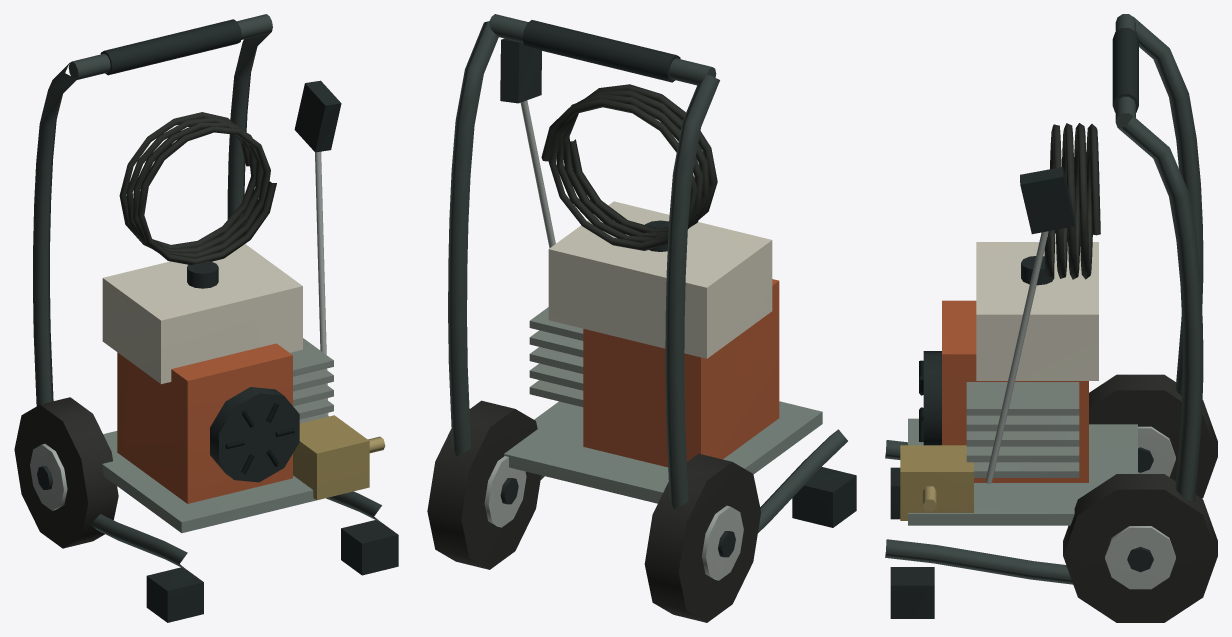
File: pressure-washer-course.glb
3 views of the same model, side by side, from view 1: azimuth 30°, elevation 25°; view 2: azimuth 150°, elevation 25°; view 3: azimuth 270°, elevation 25° (orthographic). The views are drawn at different scales.
Visible parts, largest first — view 1: Fuel tank with rolled corners.001, Painted engine housing.001, All-terrain washer wheel rubber tread.002, Coiled high-pressure hose.001, Continuous washer roll cage.002, Engine mount plate.001, Motor recoil housing.001, Brass pressure pump.001, Continuous washer roll cage.003, Washer handle grip.001, Washer vibration foot.002, Washer vibration foot.003 (+9 smaller); view 2: Fuel tank with rolled corners.001, Painted engine housing.001, All-terrain washer wheel rubber tread.002, All-terrain washer wheel rubber tread.003, Continuous washer roll cage.002, Engine mount plate.001, Coiled high-pressure hose.001, Continuous washer roll cage.003, Washer handle grip.001, Washer vibration foot.002, Lance trigger grip.001, All-terrain washer wheel recessed hub.004 (+8 smaller); view 3: All-terrain washer wheel rubber tread.003, Fuel tank with rolled corners.001, Continuous washer roll cage.003, Engine mount plate.001, All-terrain washer wheel rubber tread.002, Painted engine housing.001, Coiled high-pressure hose.001, Continuous washer roll cage.002, Brass pressure pump.001, Cast motor cooling fin.009, All-terrain washer wheel recessed hub.007, Lance trigger grip.001 (+13 smaller).
Part boxes in pixels (x1=…): Fuel tank with rolled corners.001: x1=102, y1=244, x2=302, y2=384; Painted engine housing.001: x1=117, y1=343, x2=292, y2=503; All-terrain washer wheel rubber tread.002: x1=14, y1=397, x2=118, y2=548; Coiled high-pressure hose.001: x1=119, y1=112, x2=276, y2=264; Continuous washer roll cage.002: x1=33, y1=63, x2=187, y2=570; Engine mount plate.001: x1=102, y1=431, x2=316, y2=533; Motor recoil housing.001: x1=210, y1=387, x2=299, y2=482; Brass pressure pump.001: x1=293, y1=415, x2=369, y2=500; Continuous washer roll cage.003: x1=227, y1=32, x2=382, y2=523; Washer handle grip.001: x1=100, y1=19, x2=241, y2=75; Washer vibration foot.002: x1=146, y1=567, x2=203, y2=622; Washer vibration foot.003: x1=341, y1=520, x2=398, y2=575; Fuel tank with rolled corners.001: x1=548, y1=201, x2=772, y2=358; Painted engine housing.001: x1=583, y1=279, x2=779, y2=467; All-terrain washer wheel rubber tread.002: x1=644, y1=453, x2=761, y2=622; All-terrain washer wheel rubber tread.003: x1=427, y1=400, x2=541, y2=569; Continuous washer roll cage.002: x1=665, y1=74, x2=847, y2=532; Engine mount plate.001: x1=504, y1=401, x2=822, y2=503; Coiled high-pressure hose.001: x1=541, y1=84, x2=717, y2=250; Continuous washer roll cage.003: x1=448, y1=21, x2=544, y2=479; Washer handle grip.001: x1=522, y1=20, x2=680, y2=82; Washer vibration foot.002: x1=792, y1=467, x2=856, y2=527; Lance trigger grip.001: x1=500, y1=38, x2=541, y2=103; All-terrain washer wheel recessed hub.004: x1=702, y1=505, x2=743, y2=580; All-terrain washer wheel rubber tread.003: x1=1063, y1=474, x2=1217, y2=622; Fuel tank with rolled corners.001: x1=976, y1=242, x2=1098, y2=380; Continuous washer roll cage.003: x1=885, y1=116, x2=1203, y2=584; Engine mount plate.001: x1=908, y1=418, x2=1137, y2=525; All-terrain washer wheel rubber tread.002: x1=1089, y1=374, x2=1217, y2=498; Painted engine housing.001: x1=942, y1=300, x2=1088, y2=482; Coiled high-pressure hose.001: x1=1044, y1=123, x2=1100, y2=279; Continuous washer roll cage.002: x1=885, y1=17, x2=1203, y2=459; Brass pressure pump.001: x1=900, y1=445, x2=973, y2=520; Cast motor cooling fin.009: x1=966, y1=382, x2=1079, y2=415; All-terrain washer wheel recessed hub.007: x1=1105, y1=526, x2=1175, y2=589; Lance trigger grip.001: x1=1020, y1=167, x2=1074, y2=234.
Size of the model in its own units: 0.595 by 1.14 by 0.6795.
